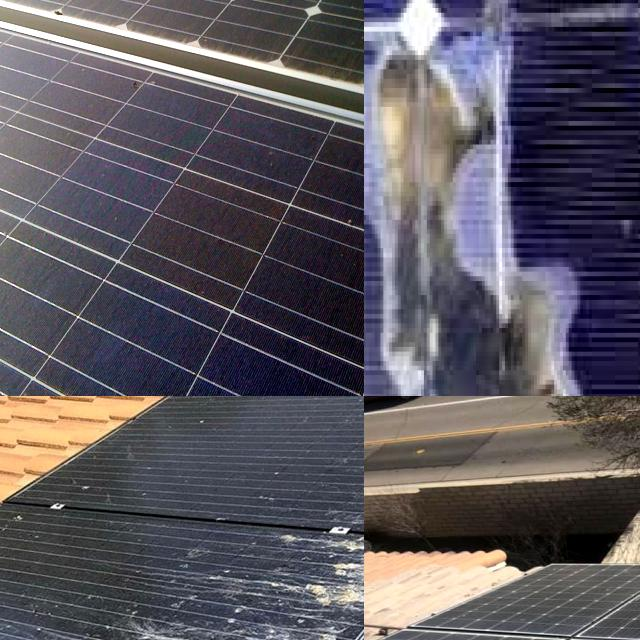bird: (303, 504, 364, 615), (31, 475, 88, 542)
shadow: (364, 0, 580, 396)
